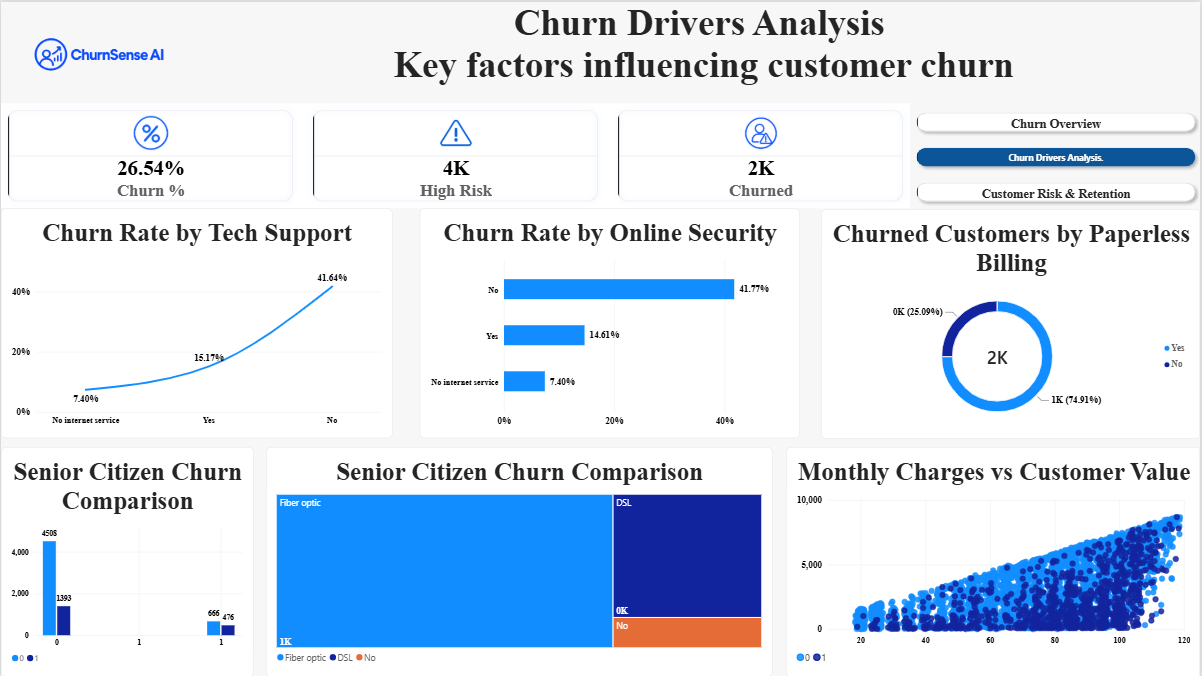

The dashboard page shown, as its layout file describes it:
{"tool":"powerbi","page":{"name":"Churn Drivers Analysis.","canvas":[1920,1080],"ordinal":1},"visuals":[{"type":"cardVisual","fields":{"Data":["Fact_Churn.Churn Rate %","Fact_Churn.High-Risk Customers","Fact_Churn.Churned Customers"]},"box":[0,162,1456,168],"z":0},{"type":"lineChart","title":"Churn Rate by Tech Support","fields":{"Category":["Fact_Churn.TechSupport"],"Y":["Fact_Churn.Churn Rate %"]},"box":[0,330,626,368],"z":1000},{"type":"clusteredBarChart","title":"Churn Rate by Online Security","fields":{"Category":["Fact_Churn.OnlineSecurity"],"Y":["Fact_Churn.Churn Rate %"]},"box":[670,330,608,368],"z":2000},{"type":"donutChart","title":"Churned Customers by Paperless Billing","fields":{"Category":["Fact_Churn.PaperlessBilling"],"Y":["Fact_Churn.Churned Customers"]},"box":[1312,332,608,366],"z":3000},{"type":"clusteredColumnChart","title":"Senior Citizen Churn Comparison","fields":{"Category":["Fact_Churn.SeniorCitizen"],"Y":["CountNonNull(Fact_Churn.customerID)"],"Series":["Fact_Churn.Churn_Flag"]},"box":[0,712,404,368],"z":4000},{"type":"scatterChart","title":"Monthly Charges vs Customer Value","fields":{"X":["Sum(Fact_Churn.MonthlyCharges)"],"Y":["Sum(Fact_Churn.TotalCharges)"],"Series":["Fact_Churn.Churn_Flag"],"Category":["Fact_Churn.customerID"]},"box":[1256,712,664,368],"z":5000},{"type":"image","box":[0,0,314,168],"z":6000},{"type":"textbox","box":[314,0,1606,162],"z":7000},{"type":"treemap","title":"Senior Citizen Churn Comparison","fields":{"Group":["Dim_InternetService.InternetService"],"Values":["Fact_Churn.Churned Customers"]},"box":[424,712,810,368],"z":8000},{"type":"pageNavigator","box":[1456,168,464,162],"z":9000}]}

Visuals, with their boxes in screenshot pixels (x1, y1, x2, y2), scaled from the page's 1920x1080 canvas onto the 1202x676 screenshot:
cardVisual - Fact_Churn.Churn Rate % x Fact_Churn.High-Risk Customers: {"x1": 0, "y1": 101, "x2": 912, "y2": 207}
"Churn Rate by Tech Support" lineChart: {"x1": 0, "y1": 207, "x2": 392, "y2": 437}
"Churn Rate by Online Security" clusteredBarChart: {"x1": 419, "y1": 207, "x2": 800, "y2": 437}
"Churned Customers by Paperless Billing" donutChart: {"x1": 821, "y1": 208, "x2": 1201, "y2": 437}
"Senior Citizen Churn Comparison" clusteredColumnChart: {"x1": 0, "y1": 446, "x2": 253, "y2": 675}
"Monthly Charges vs Customer Value" scatterChart: {"x1": 786, "y1": 446, "x2": 1201, "y2": 675}
image: {"x1": 0, "y1": 0, "x2": 197, "y2": 105}
textbox: {"x1": 197, "y1": 0, "x2": 1201, "y2": 101}
"Senior Citizen Churn Comparison" treemap: {"x1": 265, "y1": 446, "x2": 773, "y2": 675}
pageNavigator: {"x1": 912, "y1": 105, "x2": 1201, "y2": 207}
